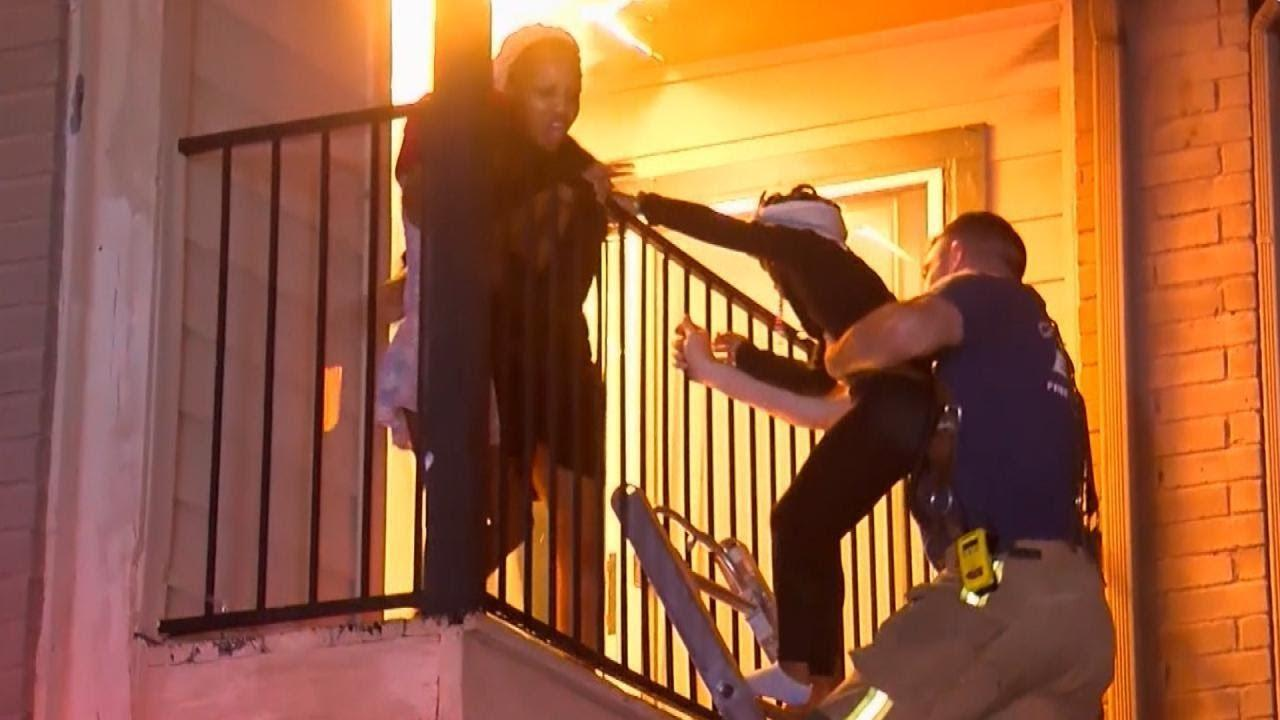Fire: (405, 2, 669, 108)
